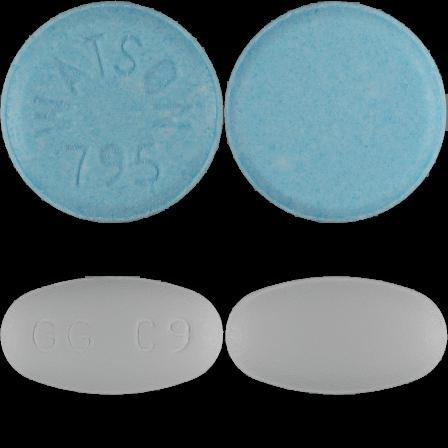75921-795: (0, 0, 224, 224)
